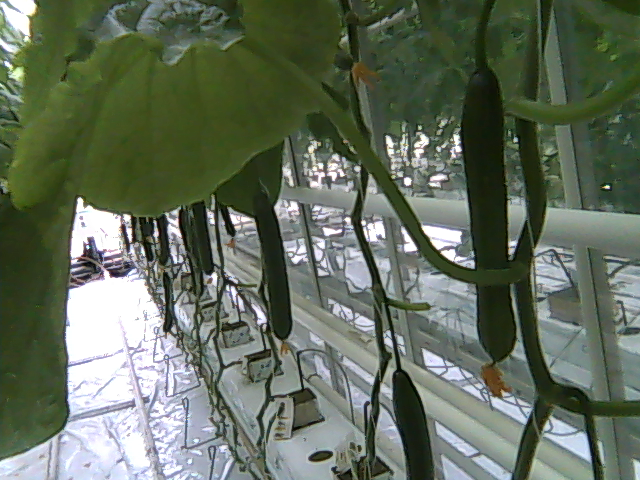concombre: (457, 60, 523, 402), (251, 187, 296, 360), (389, 368, 438, 480)
